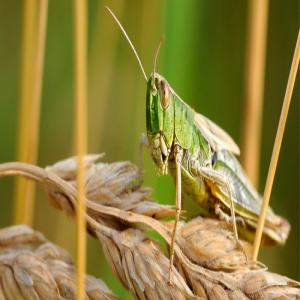locust: (133, 29, 295, 246)
